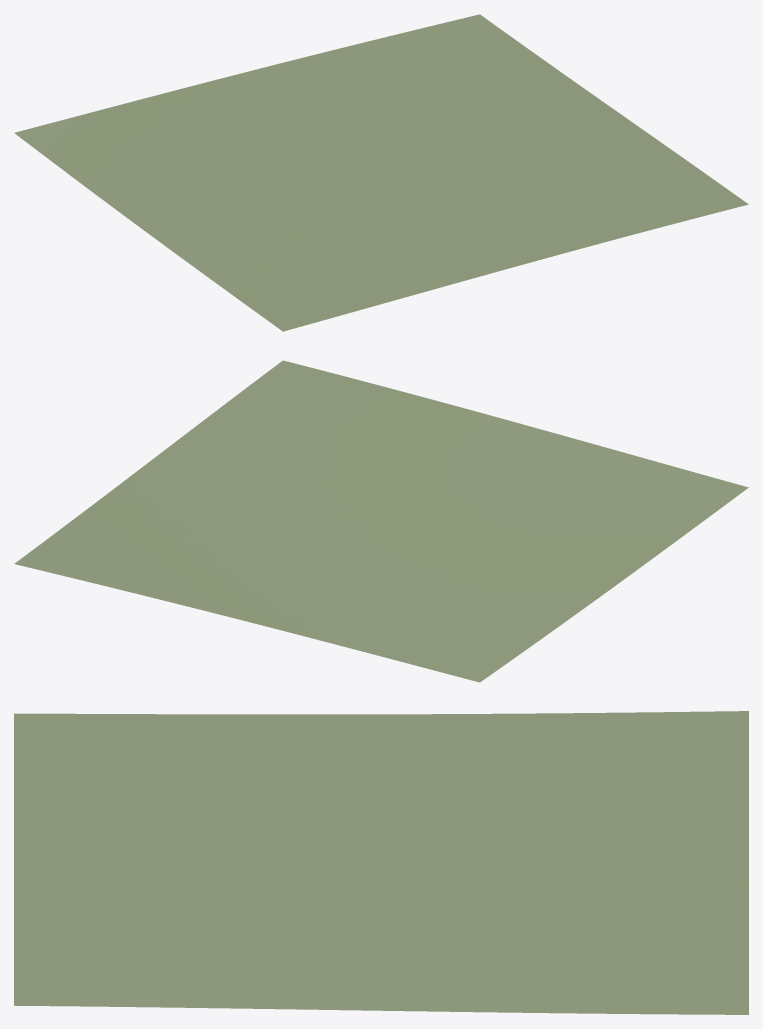
File: expanse-9-1.glb
3 views of the same model, one above another, from view 1: azimuth 30°, elevation 25°; view 2: azimuth 150°, elevation 25°; view 3: azimuth 270°, elevation 25° (orthographic). The views are drawn at different scales.
Visible parts, largest first — view 1: expanse-9-1; view 2: expanse-9-1; view 3: expanse-9-1.
Part boxes in pixels (x1,y1,x2,y2): expanse-9-1: (14,14,748,331); expanse-9-1: (14,360,748,682); expanse-9-1: (14,711,748,1014).
Size of the model in its own units: 256 by 7.4 by 256.
